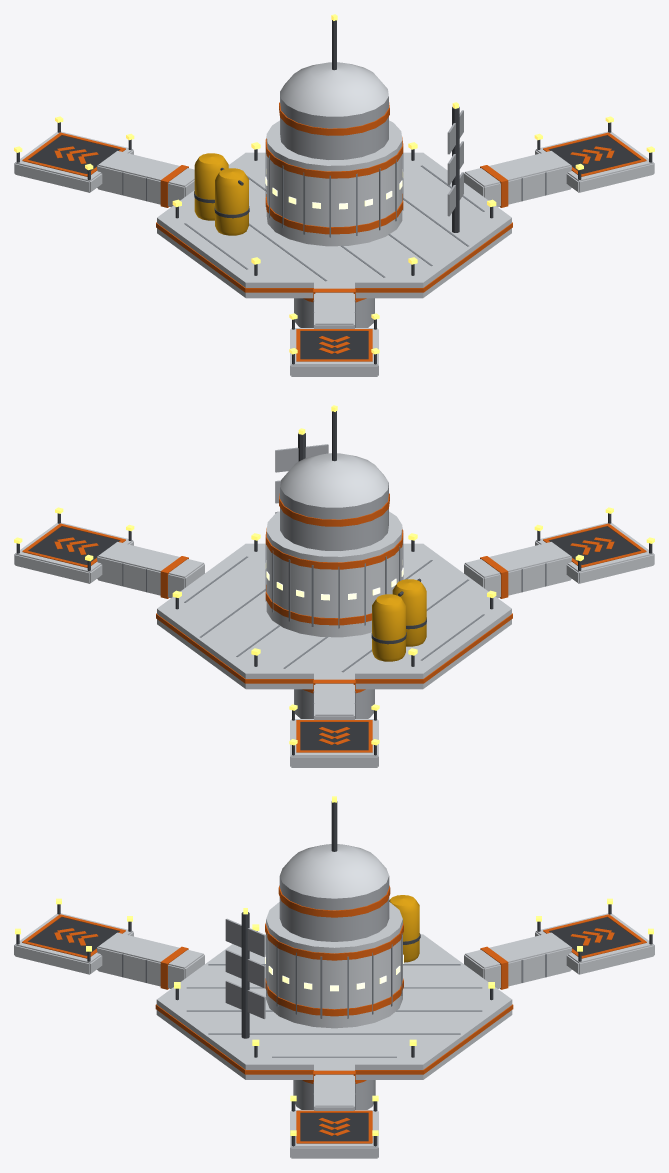
Rendered from outpost.glb.
3 views of the same model, one above another, from view 1: azimuth 30°, elevation 25°; view 2: azimuth 150°, elevation 25°; view 3: azimuth 270°, elevation 25° (orthographic).
Visible parts, largest first — view 1: outpost_hull_plate, outpost_outposts_orange, outpost_hull_plate_mid, outpost_pad_steel, outpost_safety_yellow, outpost_panel_seam, outpost_dark_steel, outpost_sodium_lamp; view 2: outpost_hull_plate, outpost_outposts_orange, outpost_hull_plate_mid, outpost_pad_steel, outpost_safety_yellow, outpost_panel_seam, outpost_dark_steel, outpost_sodium_lamp; view 3: outpost_hull_plate, outpost_outposts_orange, outpost_hull_plate_mid, outpost_pad_steel, outpost_panel_seam, outpost_dark_steel, outpost_safety_yellow, outpost_sodium_lamp.
Boxes of the visible parts, x1,y1,x2,y2 form: outpost_hull_plate: (14, 62, 654, 376); outpost_outposts_orange: (22, 102, 646, 361); outpost_hull_plate_mid: (280, 92, 463, 327); outpost_pad_steel: (28, 135, 640, 359); outpost_safety_yellow: (194, 153, 248, 235); outpost_panel_seam: (122, 149, 546, 327); outpost_dark_steel: (16, 20, 652, 364); outpost_sodium_lamp: (14, 14, 654, 354); outpost_hull_plate: (14, 453, 654, 767); outpost_outposts_orange: (22, 493, 646, 752); outpost_hull_plate_mid: (275, 444, 388, 718); outpost_pad_steel: (28, 526, 640, 750); outpost_safety_yellow: (372, 579, 426, 661); outpost_panel_seam: (122, 540, 546, 718); outpost_dark_steel: (16, 411, 652, 755); outpost_sodium_lamp: (14, 405, 654, 745); outpost_hull_plate: (14, 844, 654, 1158); outpost_outposts_orange: (22, 885, 646, 1143); outpost_hull_plate_mid: (225, 876, 389, 1109); outpost_pad_steel: (28, 917, 640, 1141); outpost_panel_seam: (122, 933, 546, 1109); outpost_dark_steel: (16, 801, 652, 1146); outpost_safety_yellow: (389, 895, 419, 962); outpost_sodium_lamp: (15, 796, 653, 1135).
Size of the model in its own units: 163 by 104 by 188.
